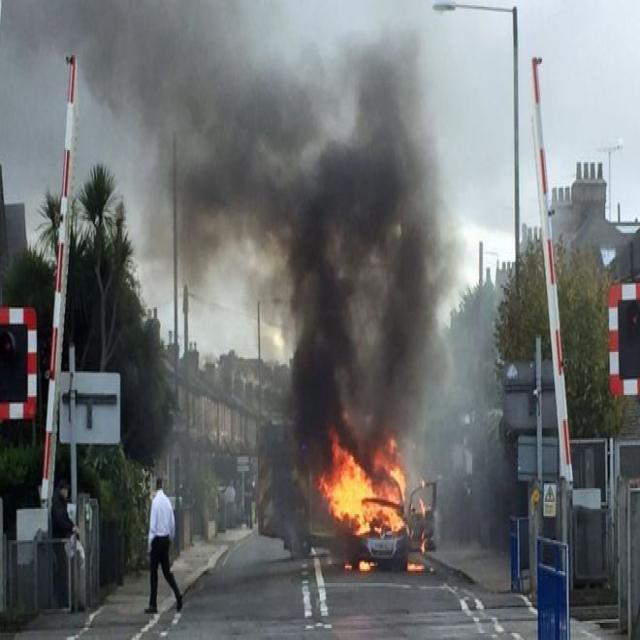Fire: (320, 443, 408, 531)
Smoke: (292, 14, 438, 430), (4, 0, 287, 148)
